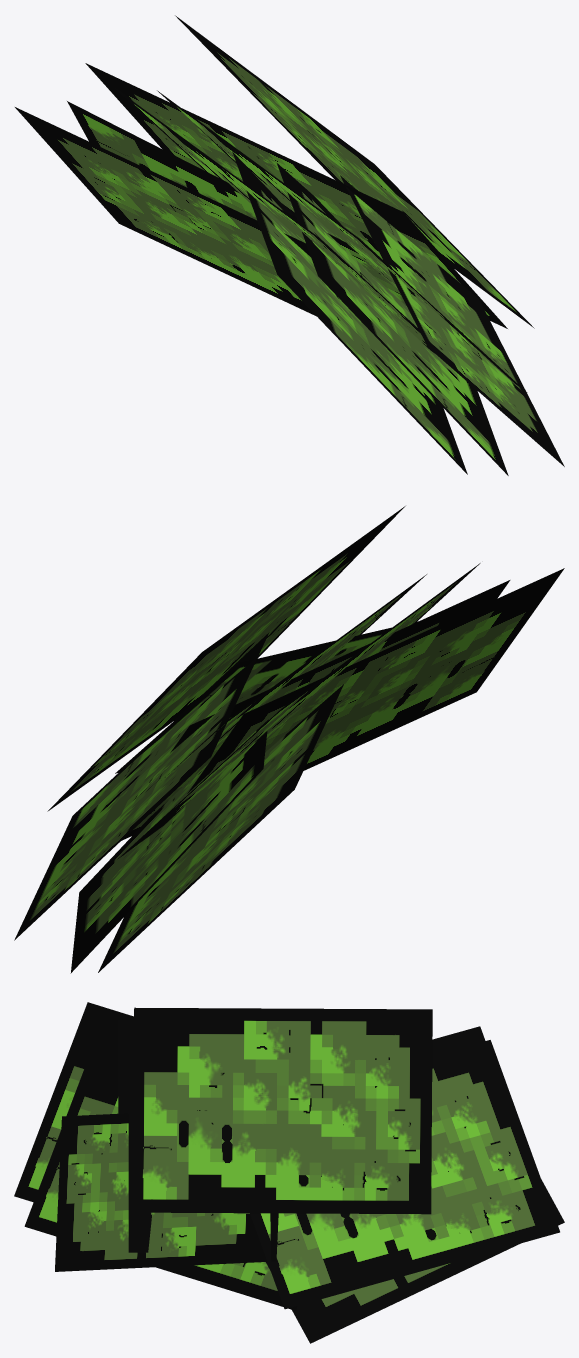
Rendered from Bush_1.fbx.
3 views of the same model, one above another, from view 1: azimuth 30°, elevation 25°; view 2: azimuth 150°, elevation 25°; view 3: azimuth 270°, elevation 25° (orthographic). The views are drawn at different scales.
Visible parts, largest first — view 1: Plane; view 2: Plane; view 3: Plane.
Part boxes in pixels (box(x1,y1,x2,y2)): Plane: box(15, 15, 564, 475); Plane: box(14, 506, 564, 973); Plane: box(14, 1002, 564, 1343).
Bounding box in the file's own units: 292 × 272 × 521.
